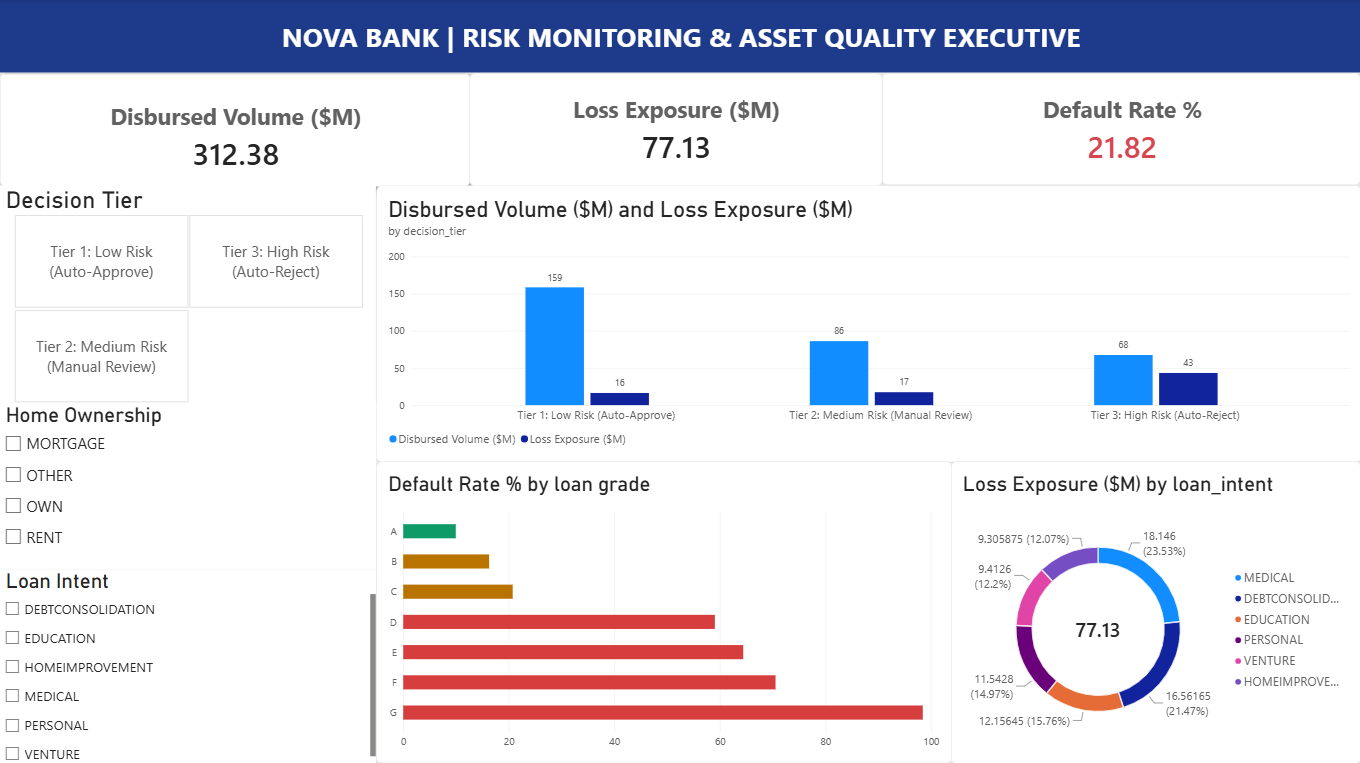

This screenshot's page, from the dashboard's own definition file:
{"tool":"powerbi","page":{"name":"Executive Overview","canvas":[1920,1080],"ordinal":0},"visuals":[{"type":"cardVisual","fields":{"Data":["cleaned_credit_risk.Disbursed Volume ($M)"]},"box":[0,105,662.5,160],"z":0},{"type":"cardVisual","fields":{"Data":["cleaned_credit_risk.Default Rate %"]},"box":[1245,105,675,160],"z":1000},{"type":"cardVisual","fields":{"Data":["cleaned_credit_risk.Loss Exposure ($M)"]},"box":[662.5,105,582.5,160],"z":2000},{"type":"slicer","fields":{"Values":["cleaned_credit_risk.decision_tier"]},"box":[0,265,530,307.5],"z":3000},{"type":"clusteredColumnChart","fields":{"Category":["cleaned_credit_risk.decision_tier"],"Y":["cleaned_credit_risk.Disbursed Volume ($M)","cleaned_credit_risk.Loss Exposure ($M)"]},"box":[529.9,264.9,1390,390],"z":4000},{"type":"donutChart","fields":{"Category":["cleaned_credit_risk.loan_intent"],"Y":["cleaned_credit_risk.Loss Exposure ($M)"]},"box":[1340,655,580,425],"z":6000},{"type":"slicer","fields":{"Values":["cleaned_credit_risk.loan_intent"]},"box":[0,805,530,275],"z":8000},{"type":"slicer","fields":{"Values":["cleaned_credit_risk.person_home_ownership"]},"box":[0,572.5,530,232.5],"z":9000},{"type":"shape","box":[0,0,1920,105],"z":10000},{"type":"textbox","box":[397.5,30,1347.5,75],"z":11000},{"type":"clusteredBarChart","title":"Default Rate % by loan grade","fields":{"Category":["cleaned_credit_risk.loan_grade"],"Y":["cleaned_credit_risk.Default Rate %"]},"box":[529.9,654.1,811.2,426.7],"z":12000}]}

Visuals, with their boxes in screenshot pixels (x1, y1, x2, y2), scaled from the page's 1920x1080 canvas onto the 1360x763 screenshot:
cardVisual - cleaned_credit_risk.Disbursed Volume ($M): bbox=(0, 74, 469, 187)
cardVisual - cleaned_credit_risk.Default Rate %: bbox=(882, 74, 1359, 187)
cardVisual - cleaned_credit_risk.Loss Exposure ($M): bbox=(469, 74, 882, 187)
slicer - cleaned_credit_risk.decision_tier: bbox=(0, 187, 375, 404)
clusteredColumnChart - cleaned_credit_risk.decision_tier x cleaned_credit_risk.Disbursed Volume ($M): bbox=(375, 187, 1359, 463)
donutChart - cleaned_credit_risk.loan_intent x cleaned_credit_risk.Loss Exposure ($M): bbox=(949, 463, 1359, 762)
slicer - cleaned_credit_risk.loan_intent: bbox=(0, 569, 375, 762)
slicer - cleaned_credit_risk.person_home_ownership: bbox=(0, 404, 375, 569)
shape: bbox=(0, 0, 1359, 74)
textbox: bbox=(282, 21, 1236, 74)
"Default Rate % by loan grade" clusteredBarChart: bbox=(375, 462, 950, 762)
